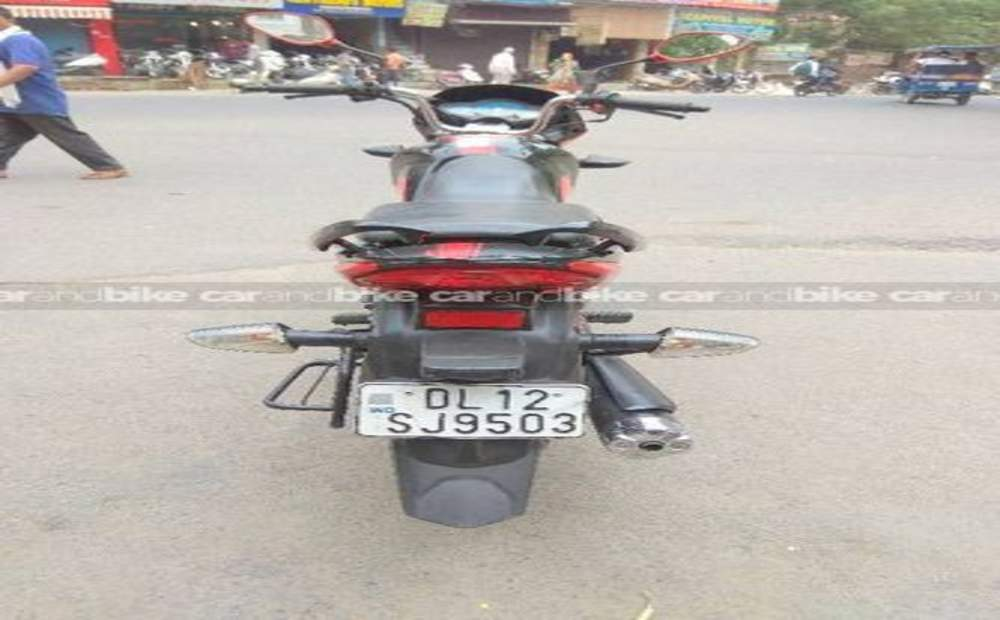number_plate: (349, 375, 614, 449)
